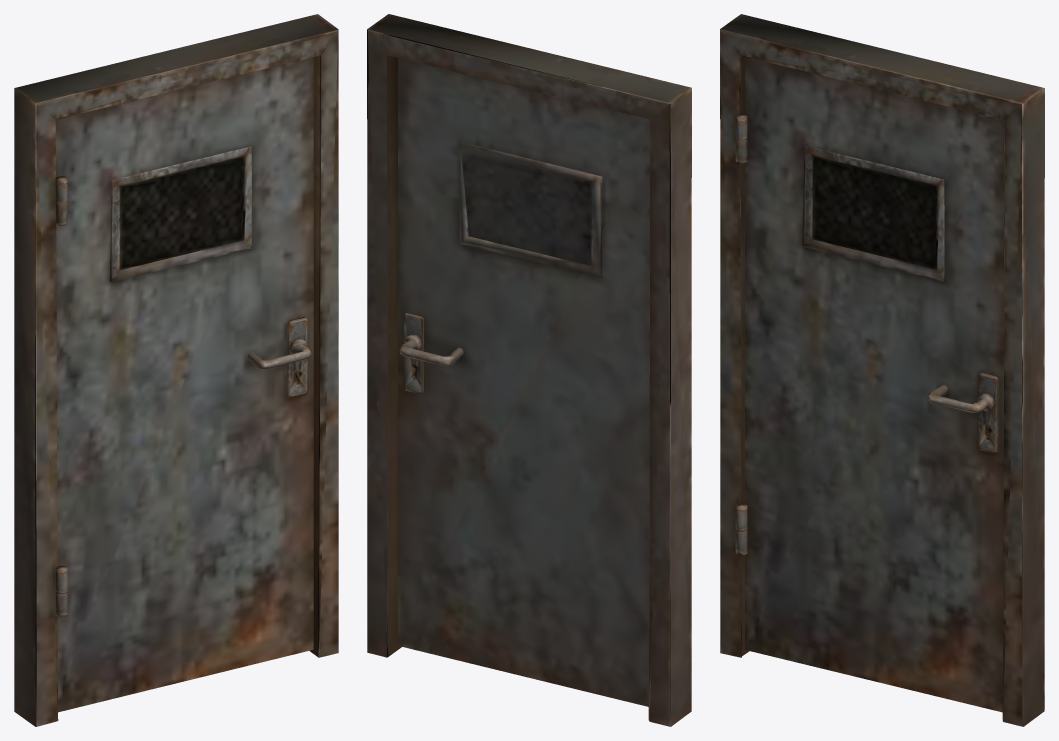
Rendered from porta.glb.
3 views of the same model, side by side, from view 1: azimuth 30°, elevation 25°; view 2: azimuth 150°, elevation 25°; view 3: azimuth 330°, elevation 25° (orthographic).
Visible parts, largest first — view 1: leaf, frame; view 2: leaf, frame; view 3: leaf, frame.
Part boxes in pixels (<box>): leaf: <box>55,57,313,712</box>; frame: <box>14,14,338,726</box>; leaf: <box>398,58,649,706</box>; frame: <box>367,14,691,726</box>; leaf: <box>745,57,1004,712</box>; frame: <box>720,14,1044,726</box>.
Size of the model in its own units: 0.8661 by 1.7 by 0.1885.
Materials: 1 (1 with a texture image).
